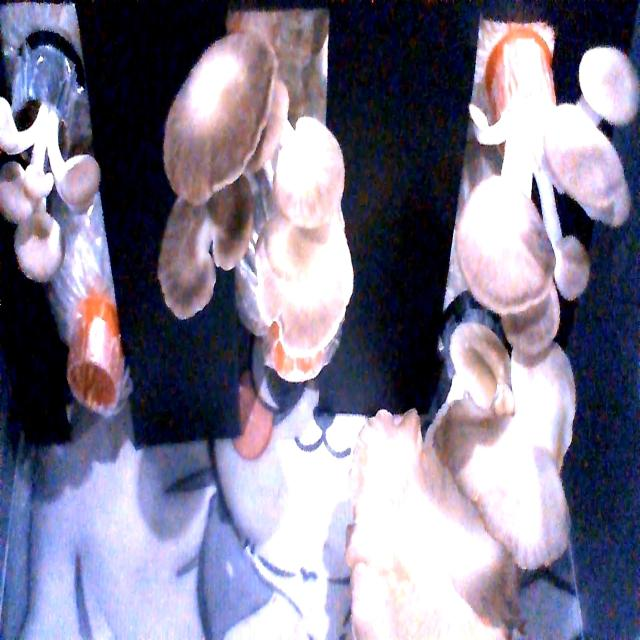big: (336, 354, 594, 640), (155, 52, 358, 394), (464, 49, 640, 350)
nfound: (68, 332, 142, 446)
small: (0, 94, 86, 271)
